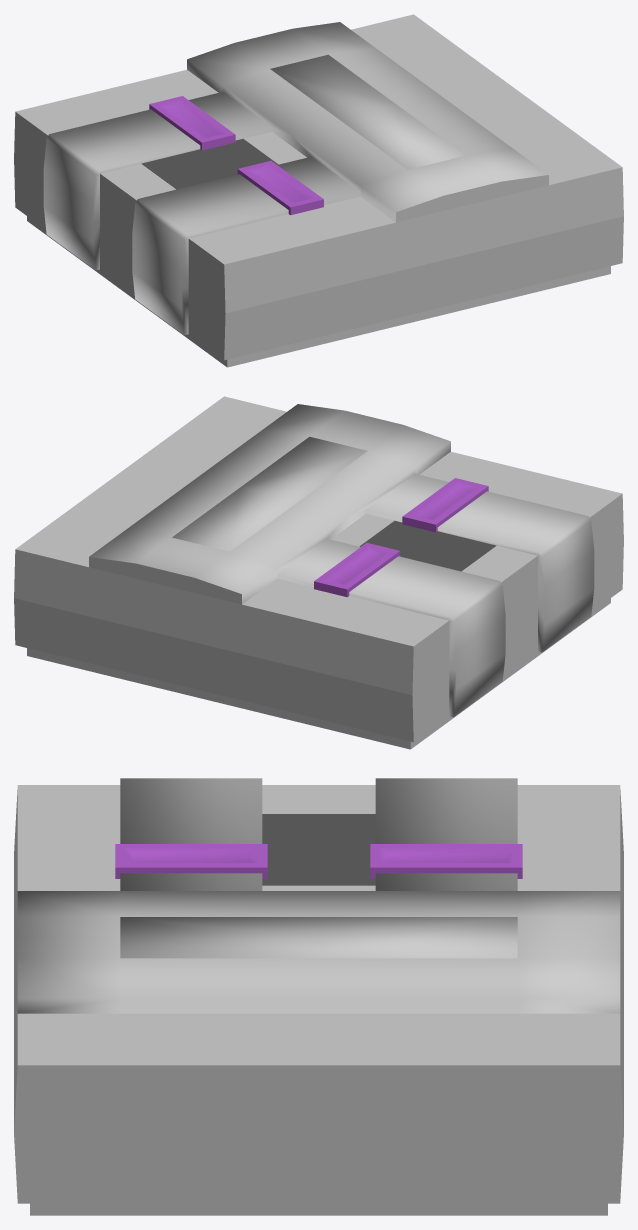
The model's file is SNES.fbx.
The picture shows the model from 3 angles, top to bottom: view 1: azimuth 30°, elevation 25°; view 2: azimuth 150°, elevation 25°; view 3: azimuth 270°, elevation 25°; orthographic projection. The views are drawn at different scales.
Parts seen in each view (by area): view 1: Body, CartSlotDOOR, EJECT, SwitchReset, SwitchPower; view 2: Body, CartSlotDOOR, EJECT, SwitchPower, SwitchReset; view 3: Body, CartSlotDOOR, EJECT, SwitchPower, SwitchReset.
Boxes of the visible parts, x1,y1,x2,y2 form: Body: [14, 14, 623, 367]; CartSlotDOOR: [270, 54, 465, 169]; EJECT: [141, 138, 278, 189]; SwitchReset: [237, 161, 323, 215]; SwitchPower: [149, 96, 235, 150]; Body: [14, 396, 623, 749]; CartSlotDOOR: [172, 436, 367, 551]; EJECT: [359, 520, 496, 571]; SwitchPower: [314, 543, 400, 597]; SwitchReset: [402, 478, 488, 532]; Body: [14, 778, 623, 1215]; CartSlotDOOR: [120, 917, 517, 958]; EJECT: [262, 814, 375, 885]; SwitchPower: [370, 844, 522, 878]; SwitchReset: [115, 844, 267, 878].
Size of the model in its own units: 188 by 54.66 by 170.
